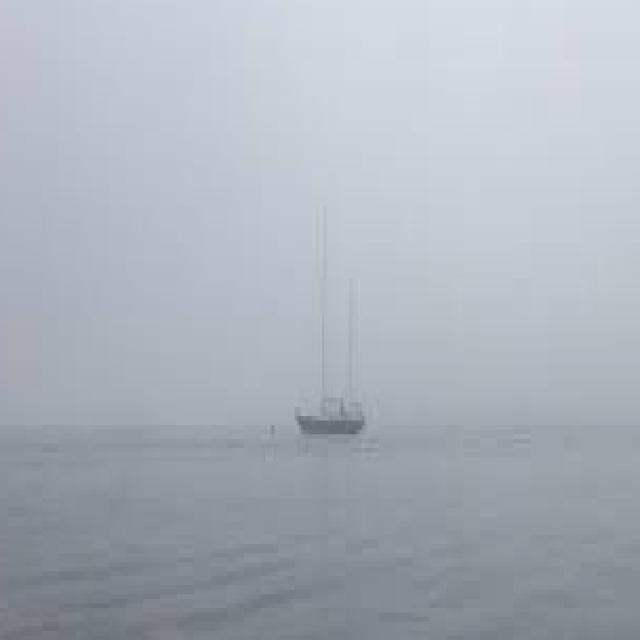fishing boat: (295, 355, 369, 436)
